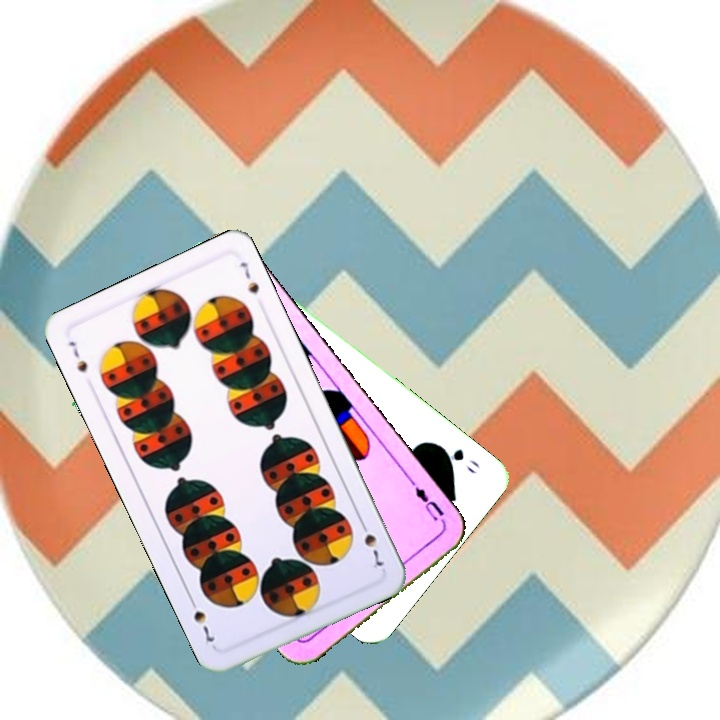EU: (406, 476, 447, 523)
GO: (433, 440, 482, 477)
S7: (356, 516, 385, 571), (65, 337, 90, 375)
